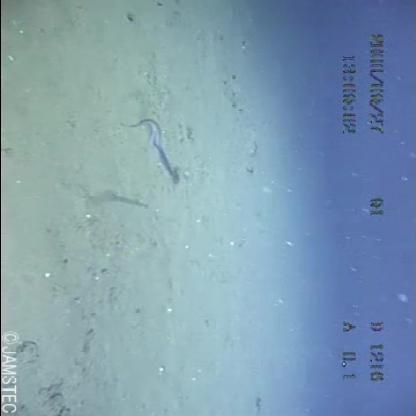Bio: (115, 113, 188, 187)
